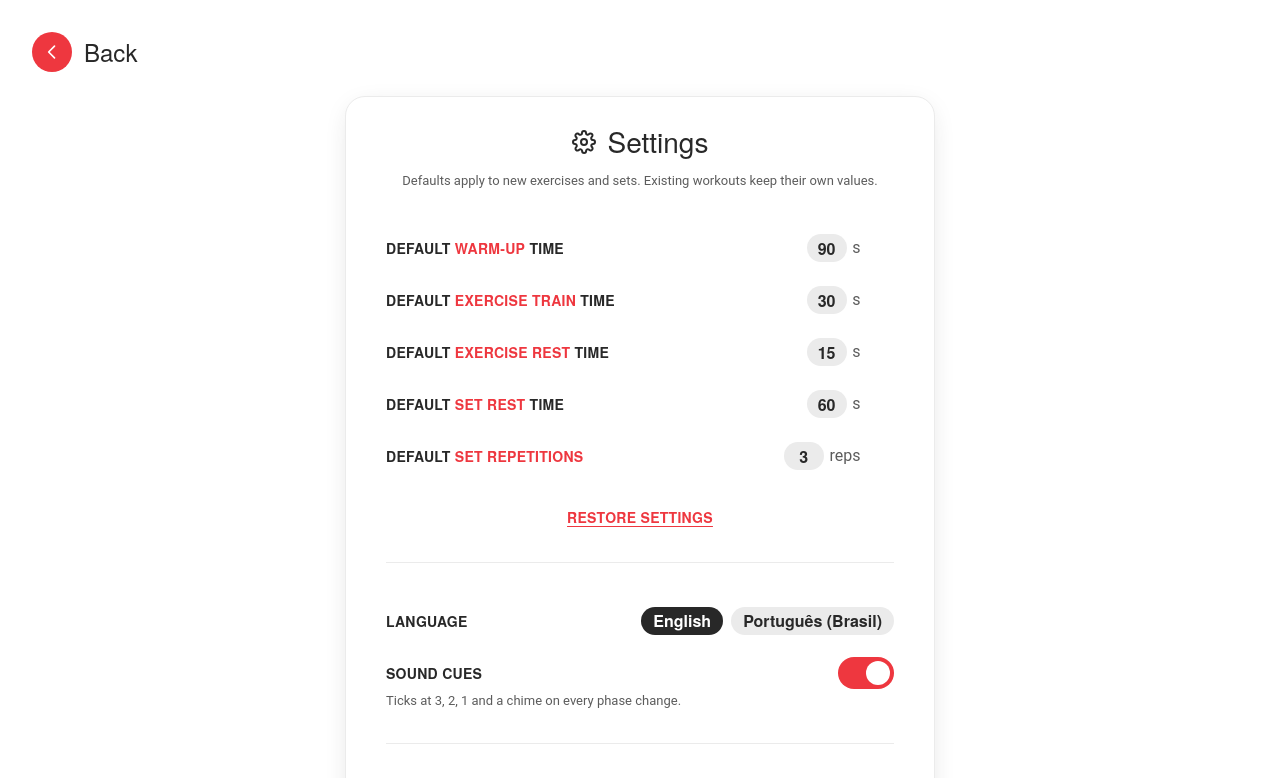
Test: Settings › switches the language right away and persists it
Click the button "Português (Brasil)" at (813, 621), box [731, 607, 894, 635]
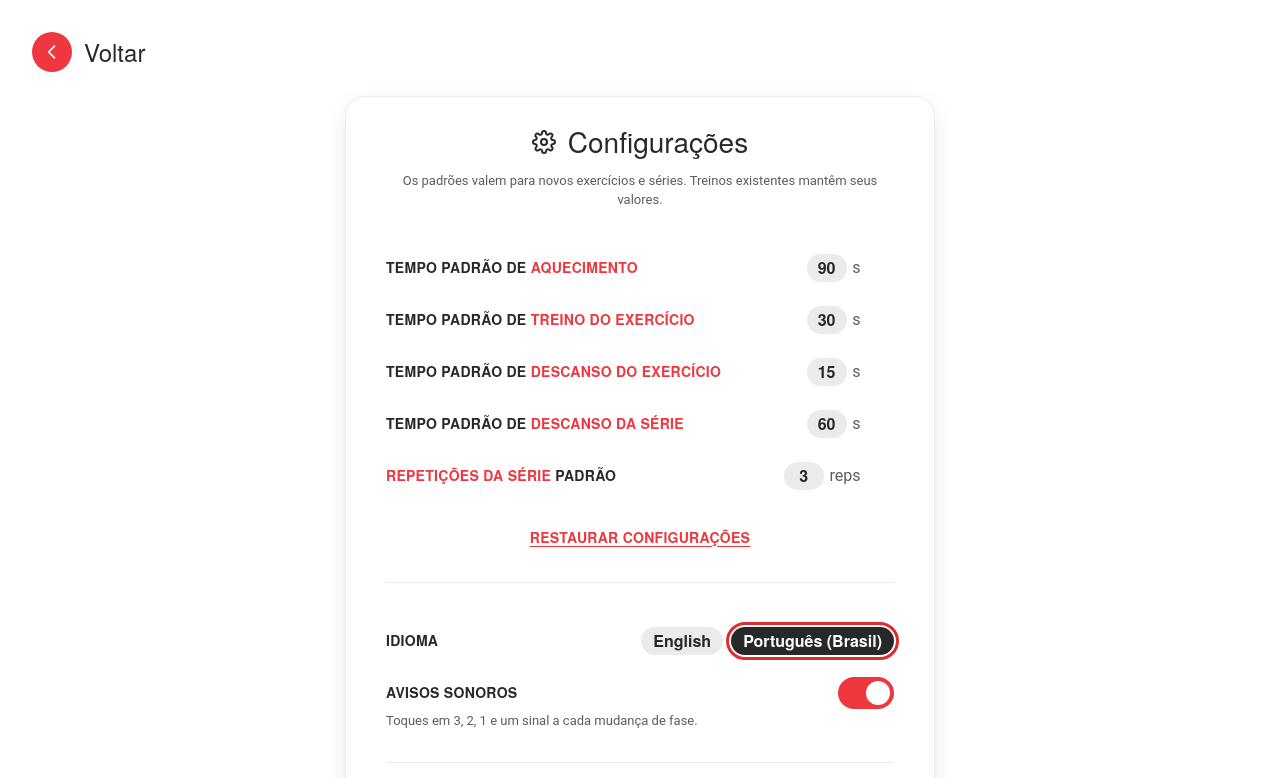
Expected: the heading reads "Configurações", [568, 121, 748, 161]
